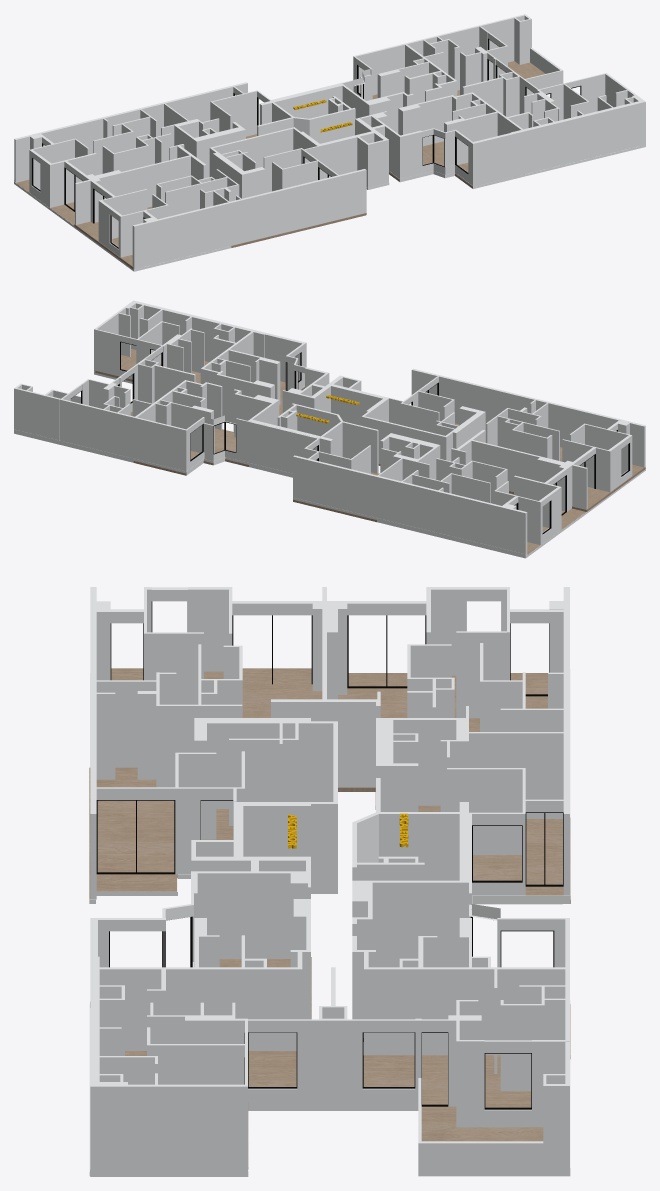
Rendered from planta-4.glb.
3 views of the same model, one above another, from view 1: azimuth 30°, elevation 25°; view 2: azimuth 150°, elevation 25°; view 3: azimuth 270°, elevation 25° (orthographic). The views are drawn at different scales.
Parts seen in each view (by area): view 1: Component_50_2, tipo-2, tipo-8, tipo-3, tipo-1, tipo-14; view 2: Component_50_2, tipo-5, tipo-2, tipo-7, tipo-3; view 3: Component_50_2, tipo-1, tipo-14, tipo-4, tipo-3, tipo-2, tipo-7.
Boxes of the visible parts, x1,y1,x2,y2 form: Component_50_2: [14, 14, 645, 271]; tipo-2: [74, 206, 152, 269]; tipo-8: [389, 141, 472, 188]; tipo-3: [16, 179, 74, 225]; tipo-1: [231, 213, 366, 247]; tipo-14: [457, 61, 545, 95]; Component_50_2: [14, 300, 645, 558]; tipo-5: [133, 428, 249, 475]; tipo-2: [509, 447, 645, 511]; tipo-7: [95, 349, 209, 383]; tipo-3: [509, 493, 585, 554]; Component_50_2: [89, 587, 570, 1176]; tipo-1: [89, 767, 233, 899]; tipo-14: [363, 1055, 543, 1141]; tipo-4: [418, 805, 570, 903]; tipo-3: [338, 673, 547, 809]; tipo-2: [111, 668, 322, 717]; tipo-7: [125, 1051, 296, 1169].
Size of what is drawn, in the model's own units: 37.48 by 3.55 by 15.25.
12 materials, 10 textured.
